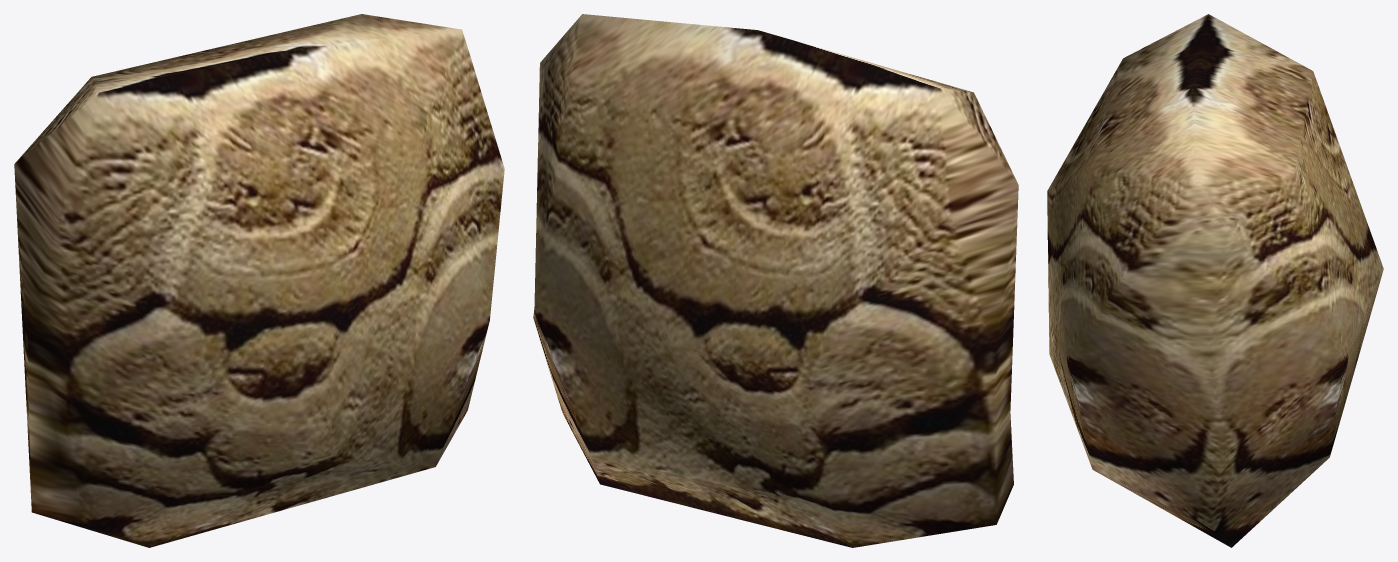
Rendered from maya.dae.
3 views of the same model, side by side, from view 1: azimuth 30°, elevation 25°; view 2: azimuth 150°, elevation 25°; view 3: azimuth 270°, elevation 25° (orthographic). The views are drawn at different scales.
Parts seen in each view (by area): view 1: Mesh_0; view 2: Mesh_0; view 3: Mesh_0.
Boxes of the visible parts, x1,y1,x2,y2 form: Mesh_0: [14, 14, 504, 547]; Mesh_0: [533, 14, 1018, 547]; Mesh_0: [1047, 14, 1383, 547].
Bounding box in the file's own units: 7.74 × 5.72 × 7.54.
1 material, 1 textured.
